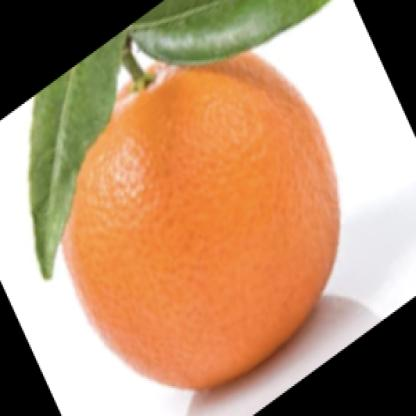fresh: (60, 46, 341, 388)
